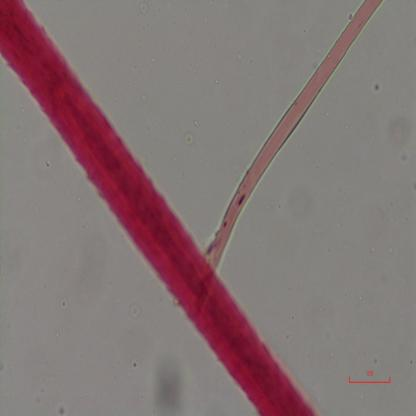Background material: (149, 350, 191, 409), (138, 1, 153, 15), (184, 130, 196, 147), (131, 301, 141, 320)
Hair textile: (0, 0, 315, 414)
Microfibre: (209, 0, 383, 264)
